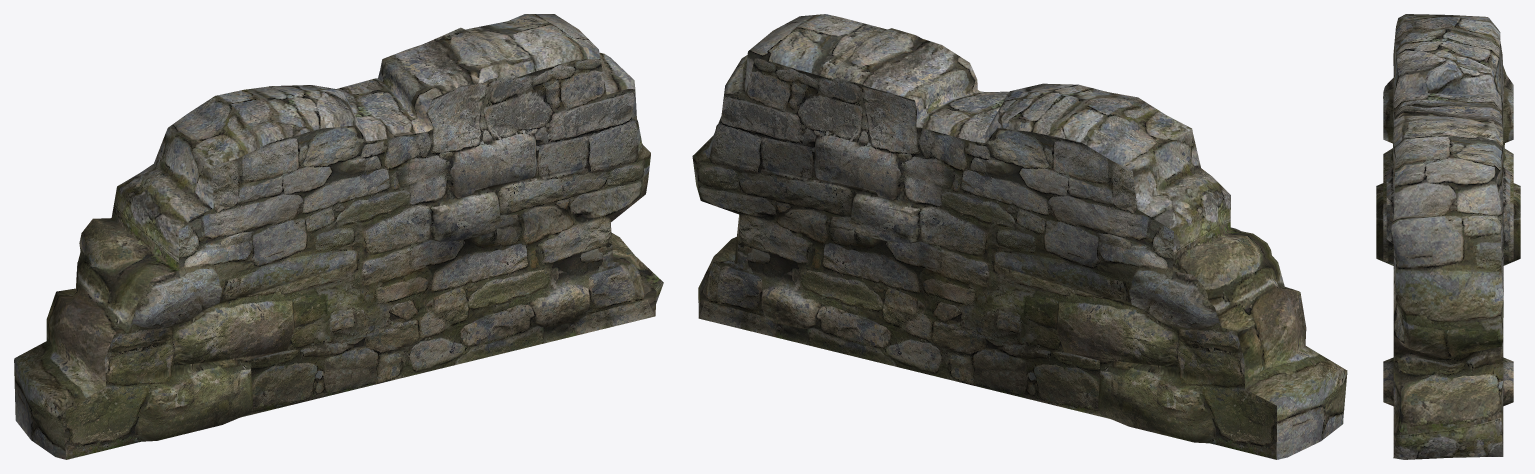
File: Wall01.FBX
3 views of the same model, side by side, from view 1: azimuth 30°, elevation 25°; view 2: azimuth 150°, elevation 25°; view 3: azimuth 270°, elevation 25° (orthographic). The views are drawn at different scales.
Parts seen in each view (by area): view 1: LV_TurtleLake_Lakevillage_StoneWall01_SM_EYE; view 2: LV_TurtleLake_Lakevillage_StoneWall01_SM_EYE; view 3: LV_TurtleLake_Lakevillage_StoneWall01_SM_EYE.
Boxes of the visible parts, x1,y1,x2,y2 form: LV_TurtleLake_Lakevillage_StoneWall01_SM_EYE: (14, 14, 663, 459); LV_TurtleLake_Lakevillage_StoneWall01_SM_EYE: (692, 14, 1347, 459); LV_TurtleLake_Lakevillage_StoneWall01_SM_EYE: (1376, 14, 1520, 459).
Size of the model in its own units: 151 by 68.32 by 33.03.
